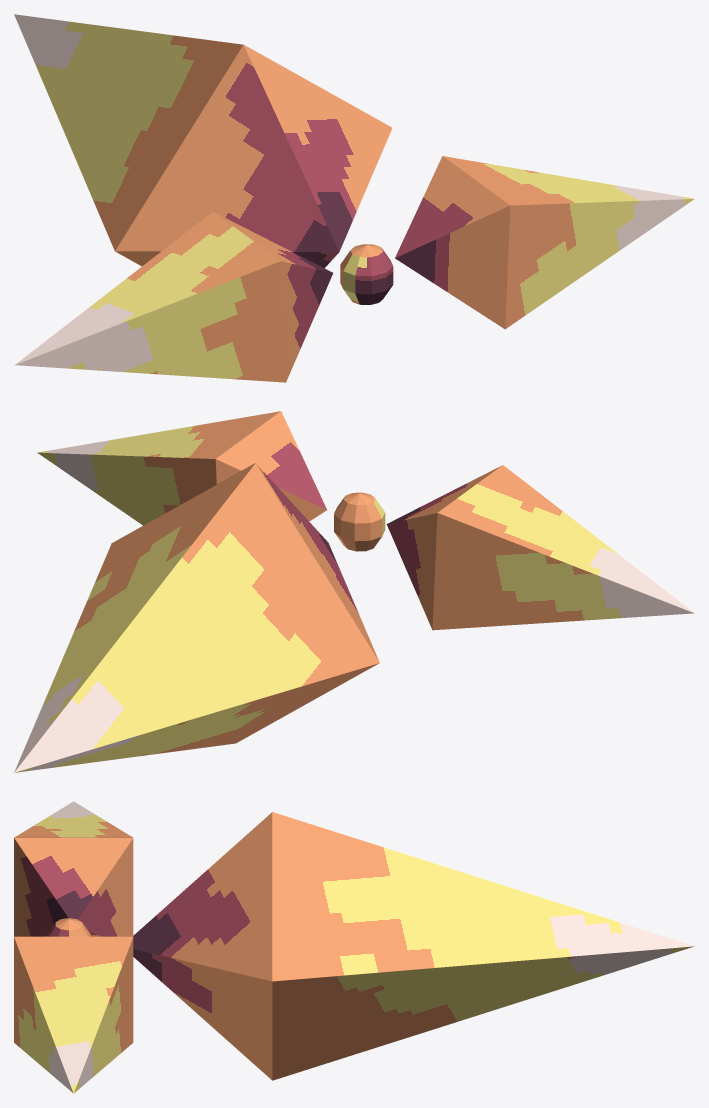
Rendered from MuzzleFlare.gltf.
3 renders of one model, top to bottom at view 1: azimuth 30°, elevation 25°; view 2: azimuth 150°, elevation 25°; view 3: azimuth 270°, elevation 25°, orthographic. The views are drawn at different scales.
Parts seen in each view (by area): view 1: Flare3, Flare1, Flare2, Connector; view 2: Flare3, Flare1, Flare2, Connector; view 3: Flare3, Flare2, Flare1, Connector.
Part boxes in pixels (left/top/right/bottom): Flare3: left=14, top=14, right=392, bottom=267; Flare1: left=15, top=211, right=333, bottom=382; Flare2: left=395, top=156, right=694, bottom=329; Connector: left=340, top=244, right=393, bottom=304; Flare3: left=14, top=463, right=379, bottom=772; Flare1: left=386, top=465, right=694, bottom=630; Flare2: left=37, top=411, right=326, bottom=525; Connector: left=334, top=492, right=385, bottom=551; Flare3: left=133, top=812, right=694, bottom=1080; Flare2: left=14, top=936, right=133, bottom=1093; Flare1: left=14, top=801, right=133, bottom=936; Connector: left=47, top=918, right=90, bottom=936.
Size of the model in its own units: 0.9056 by 0.3754 by 0.8905.
1 material, 1 textured.
